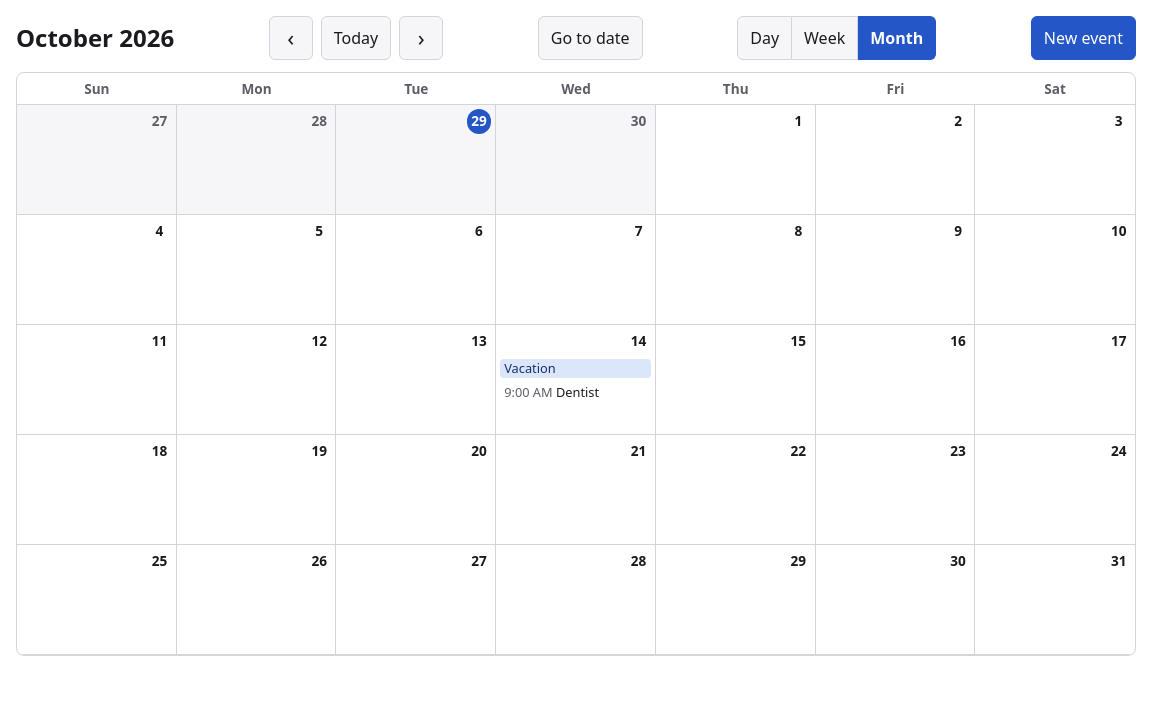
it: App (whole page) › has no axe violations with the month view, the details dialog and the form dialog open in turn
Click the button with aria-label "Dentist,": click(575, 393) [500,383,651,403]
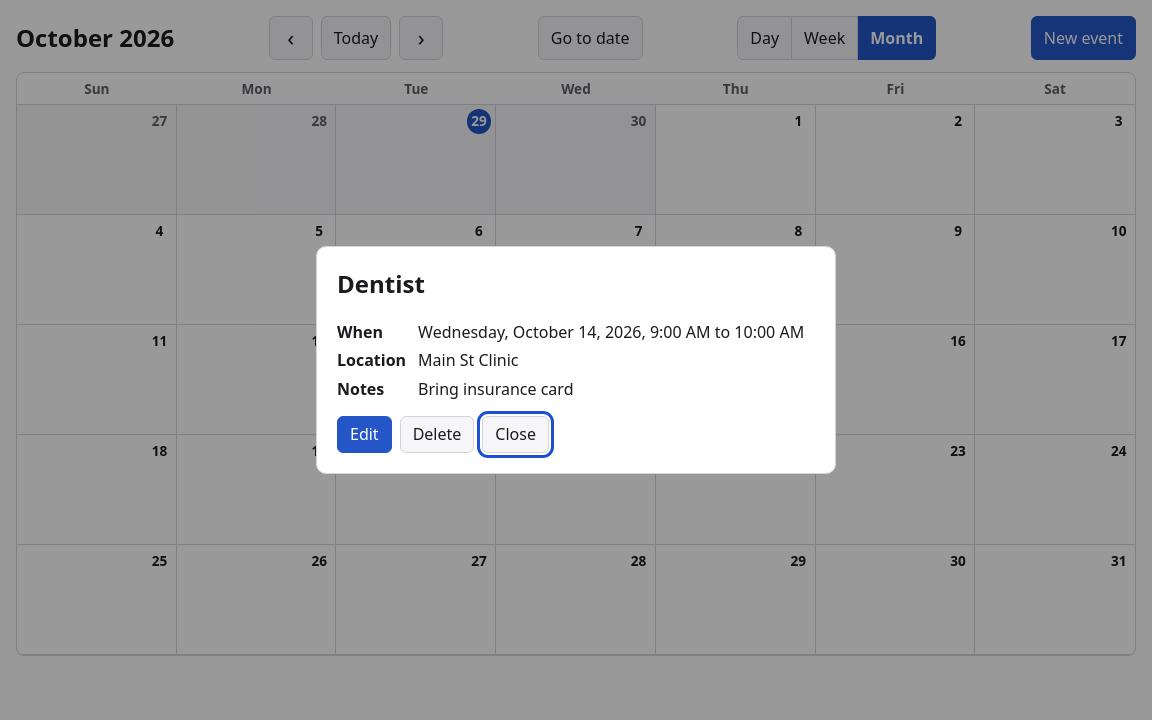
Expected: the heading "Dentist" is shown, [337,268,425,300]
Click the button "Edit": click(364, 434) [337,416,392,452]
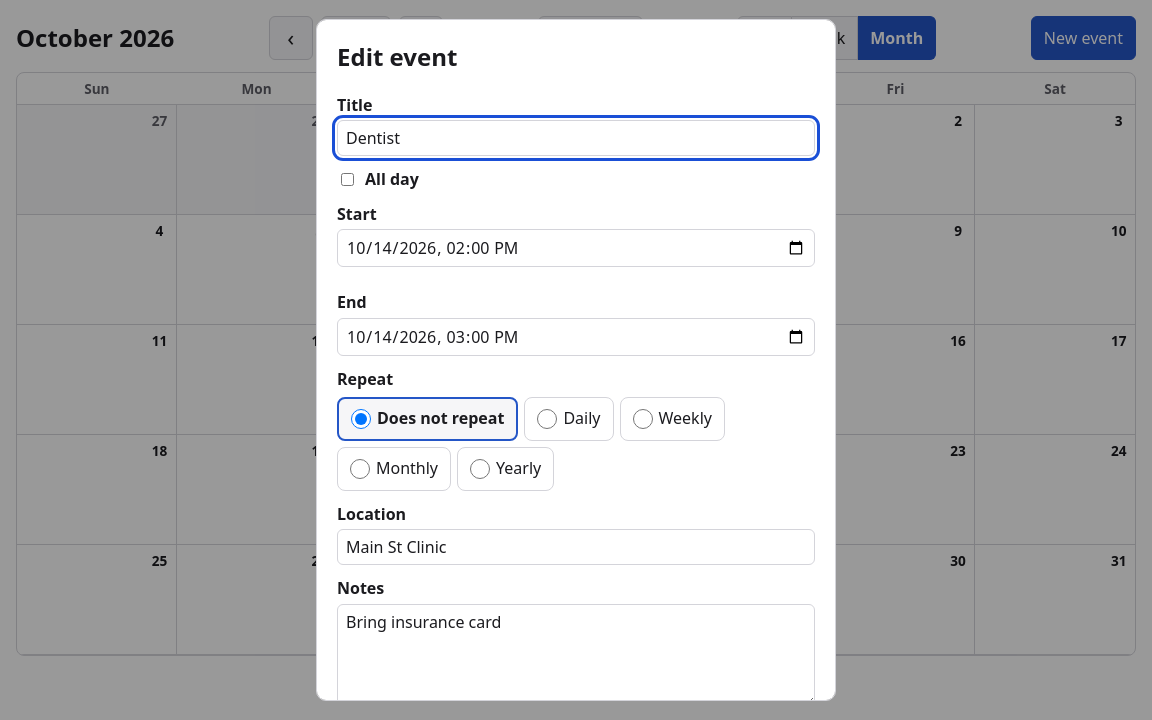
Expected: the dialog "Edit event" is shown, [316,19,836,701]
